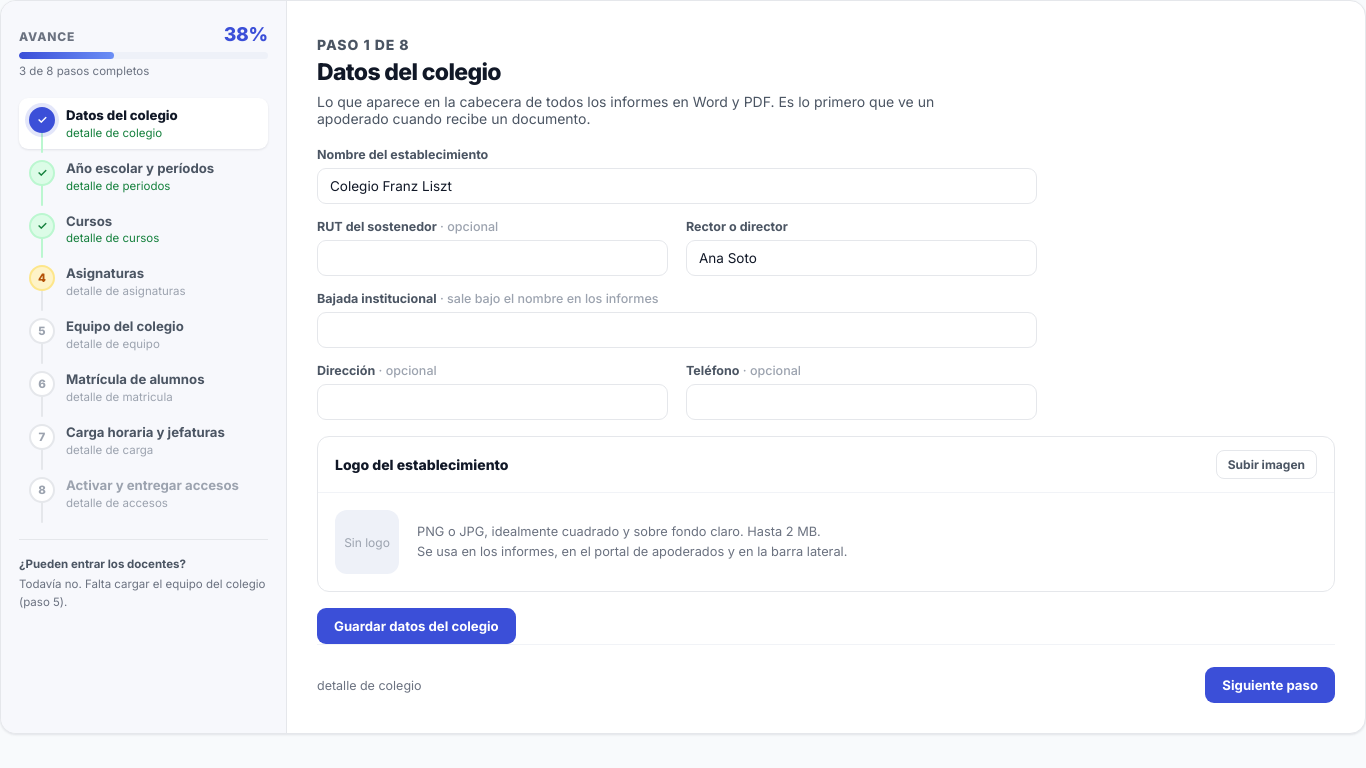
Test: Asistente de puesta en marcha › el paso de asignaturas muestra los cursos sin cubrir
Expected: the text "38%" is shown, x1=224 y1=23 x2=268 y2=46
Click the text "Asignaturas". click: [105, 273]
box: x1=66 y1=265 x2=144 y2=281
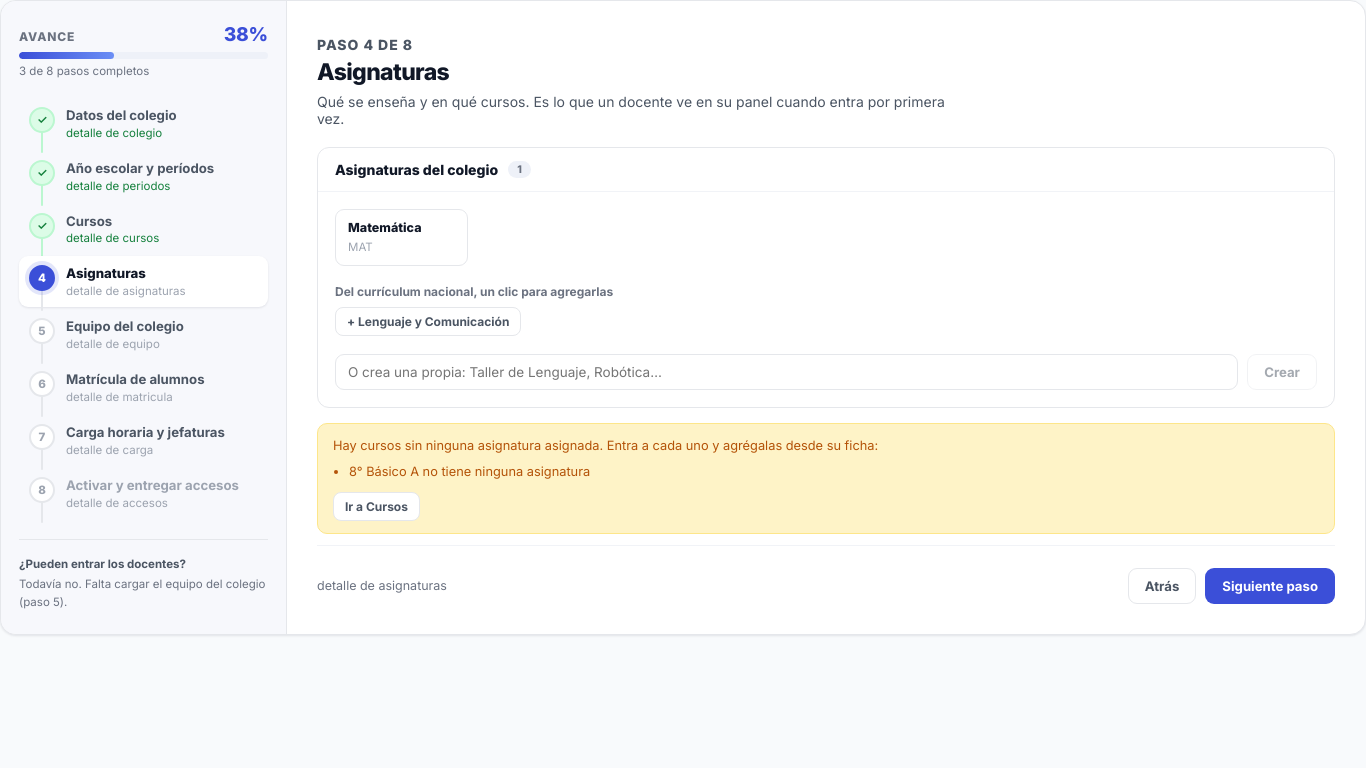
Expected: the list item "8° Básico A no tiene ninguna asignatura" is shown, x1=349 y1=464 x2=590 y2=479
